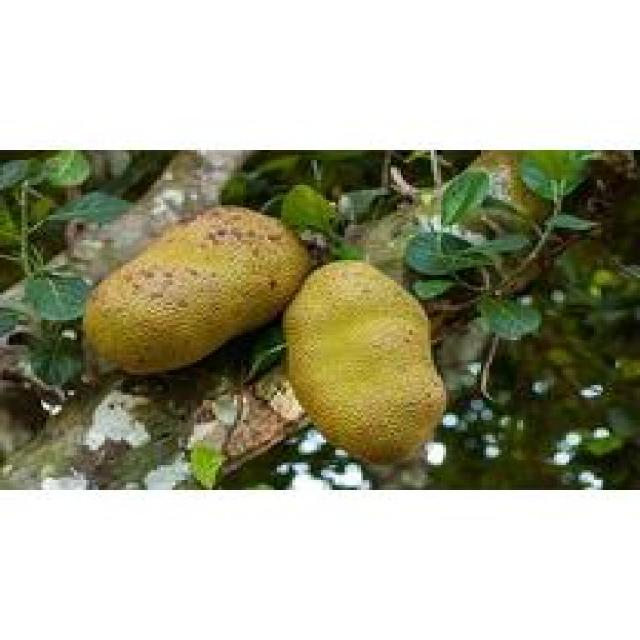Fruit: (71, 192, 329, 398), (264, 245, 462, 477)
